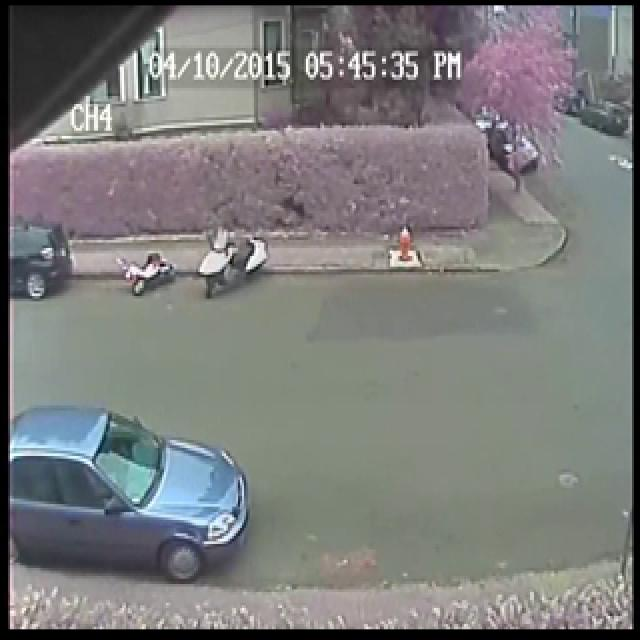vandalism: (350, 98, 526, 484)
